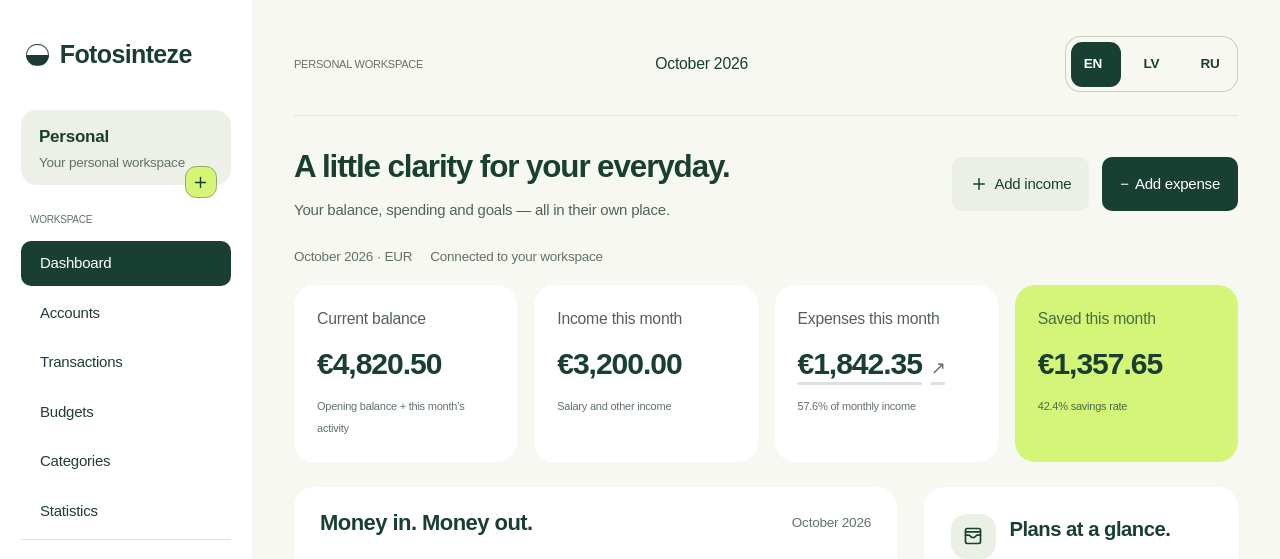
loads actual memberships and displays Personal, Business and membership roles
Expected: the button with aria-label "Switch workspace, Personal" is shown, [22,110,230,184]
Click the button "Accounts" at (126, 313), box [21,290,231,336]
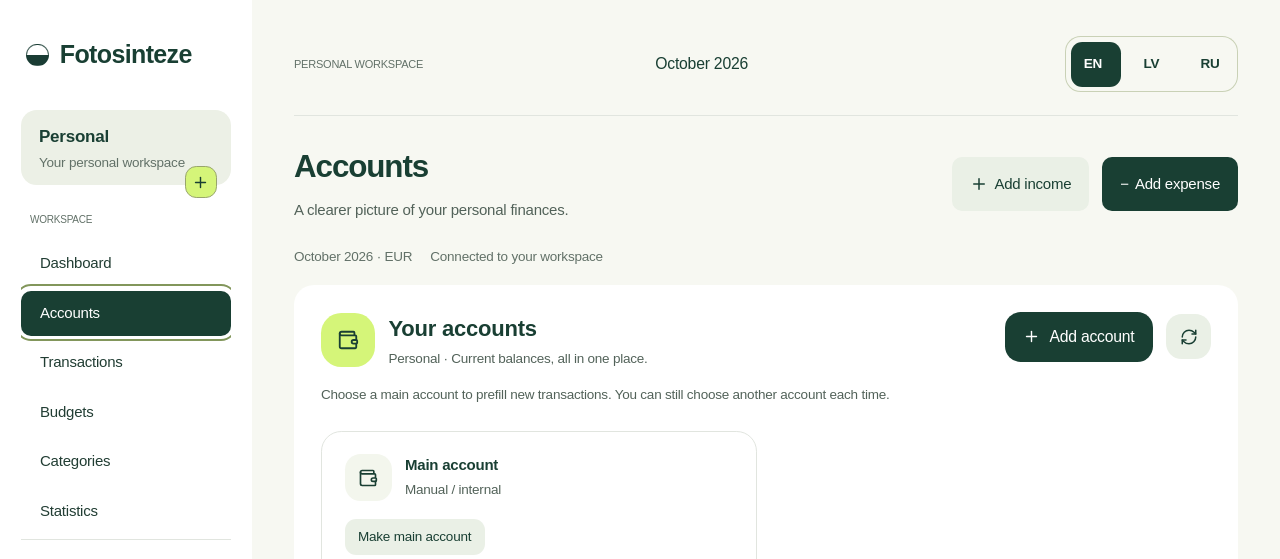
Click the button with aria-label "Switch workspace, Personal" at (126, 148), box [22,110,230,184]
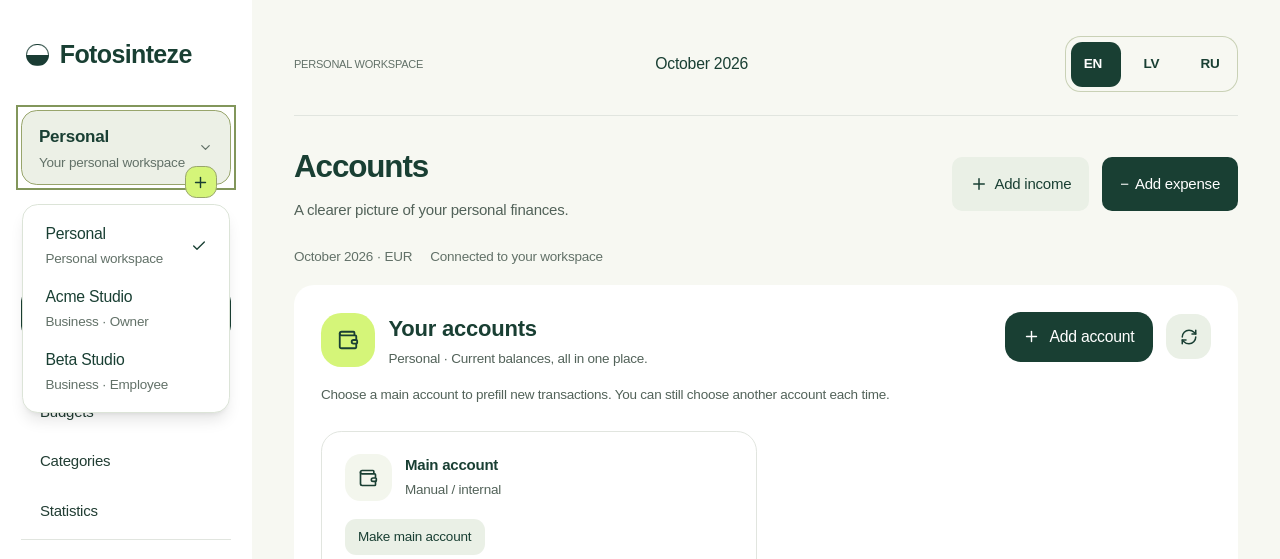
Result: the button with aria-label "Switch to Acme Studio" shows "Owner"
Result: the button with aria-label "Switch to Beta Studio" shows "Employee" at [32,340,220,404]
Click the button with aria-label "Switch to Acme Studio" at (126, 309), box [32,278,220,340]
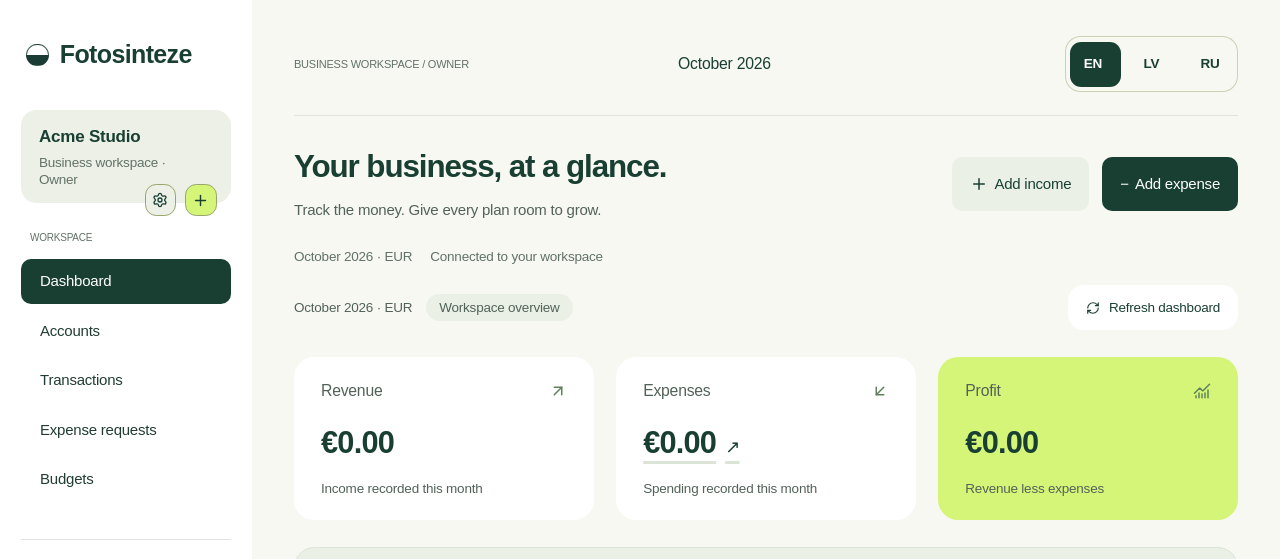
Result: the heading "Your business, at a glance." is shown at [294,148,666,185]
